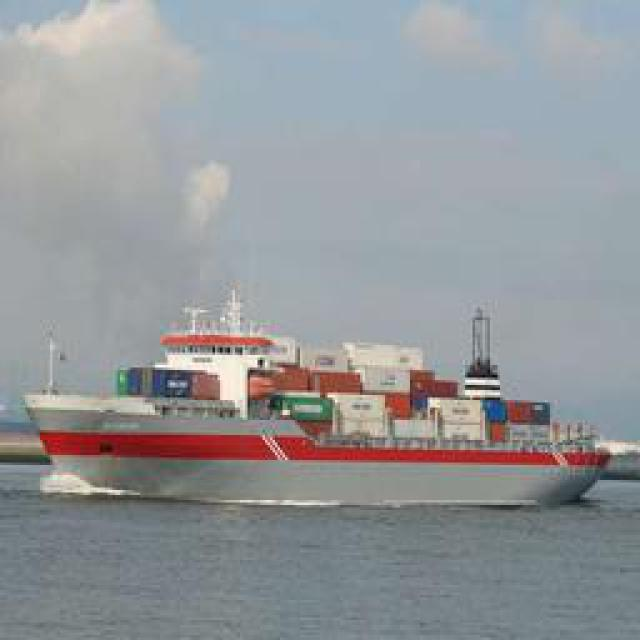Ship: (16, 295, 624, 513)
